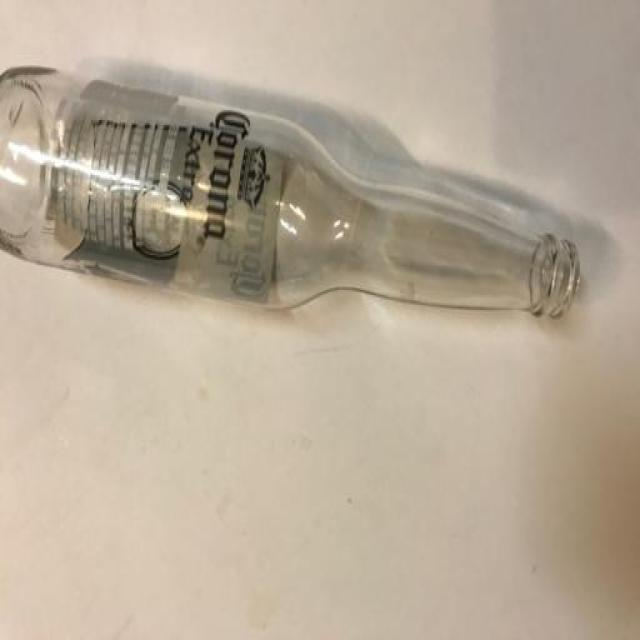Glass: (2, 16, 584, 378)
